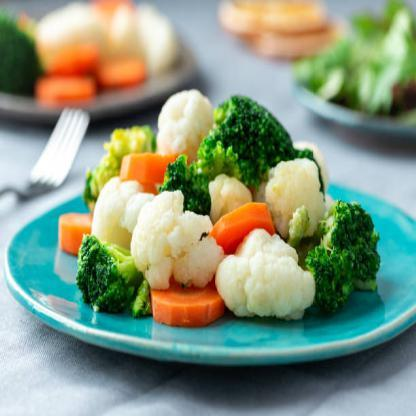broccoli: (68, 92, 384, 324)
